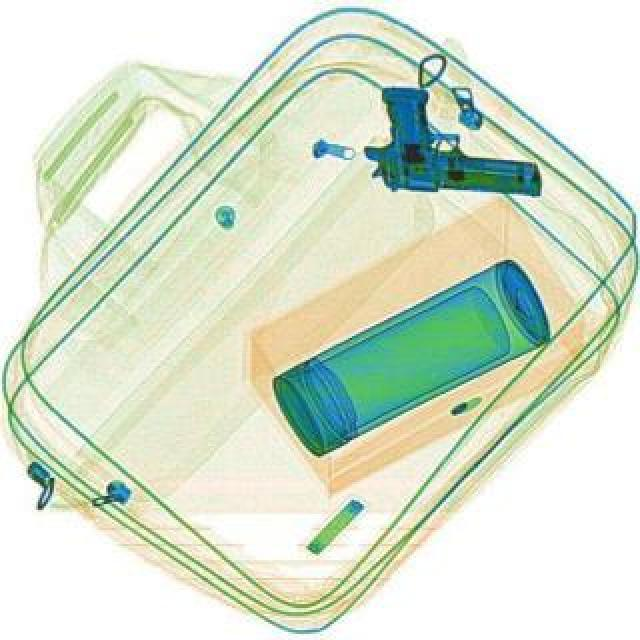gun: (362, 82, 554, 202)
